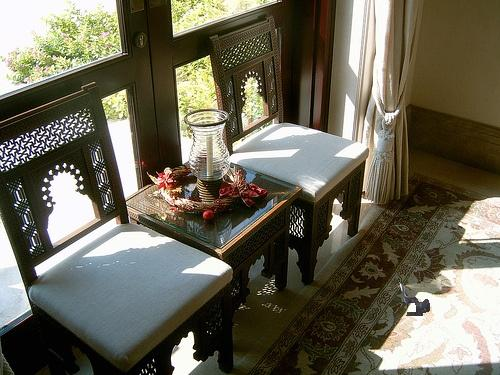tampered: (400, 283, 430, 316)
